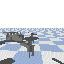drone: (0, 32, 39, 58)
